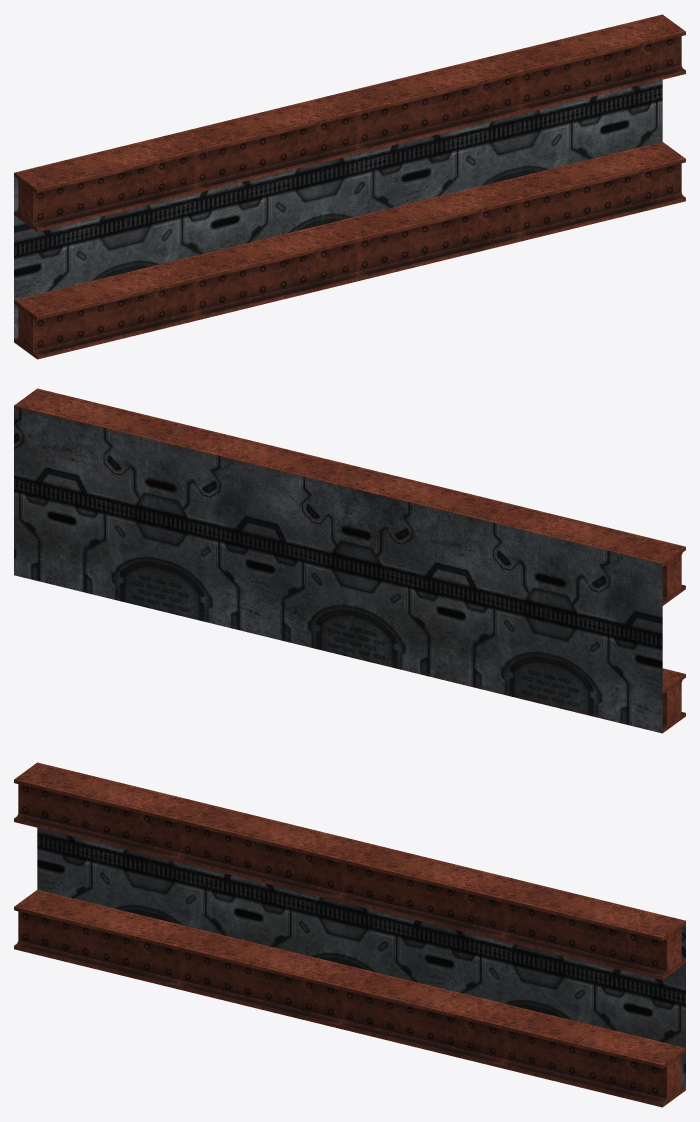
File: flat_extender_1x4.dae
3 renders of one model, top to bottom at view 1: azimuth 30°, elevation 25°; view 2: azimuth 150°, elevation 25°; view 3: azimuth 330°, elevation 25°, orthographic.
Parts seen in each view (by area): view 1: polySurface5, pPlane1; view 2: pPlane1, polySurface5; view 3: polySurface5, pPlane1.
Part boxes in pixels (bbox=[...]): polySurface5: bbox=[14, 14, 685, 359]; pPlane1: bbox=[14, 79, 662, 338]; pPlane1: bbox=[14, 405, 662, 733]; polySurface5: bbox=[14, 388, 685, 732]; polySurface5: bbox=[14, 762, 685, 1107]; pPlane1: bbox=[37, 827, 685, 1086].
Bounding box in the file's own units: 4 × 1 × 0.25.
